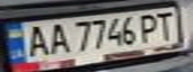4: (106, 16, 127, 47)
6: (121, 13, 142, 46)
7: (69, 18, 93, 53), (90, 17, 109, 51)
A: (21, 23, 51, 57), (45, 20, 69, 55)
P: (136, 11, 163, 43)
T: (154, 9, 178, 39)
